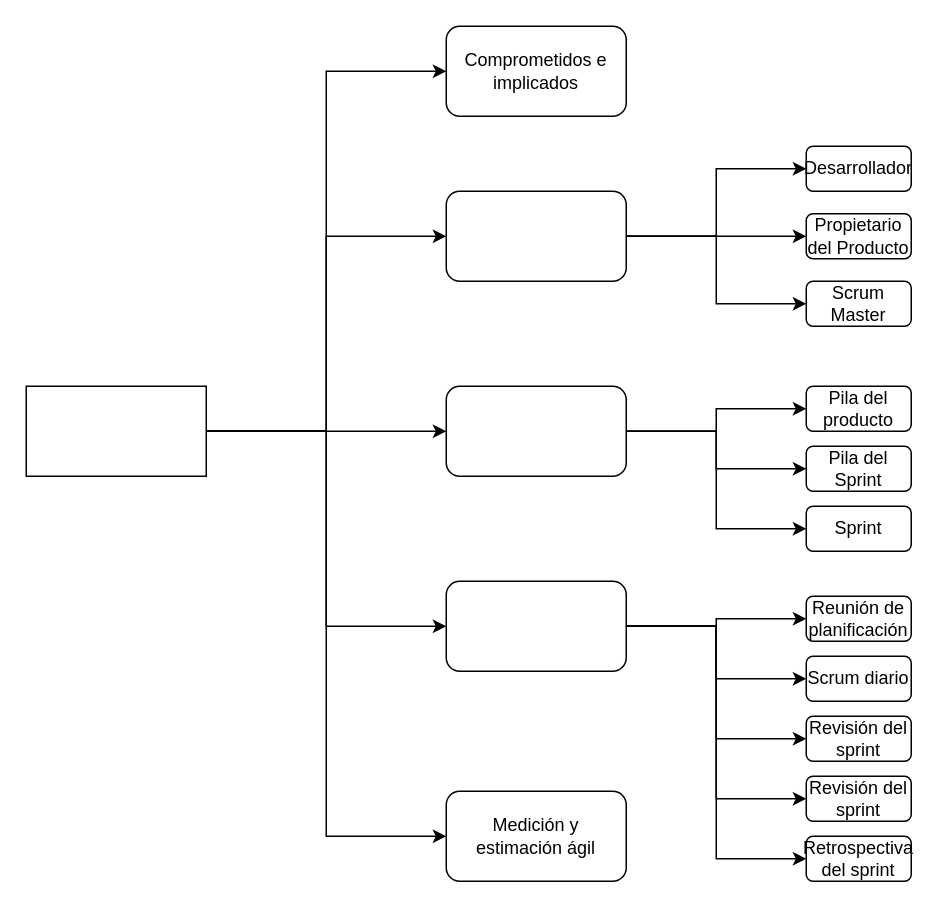
The diagram is 939 pixels wide and 908 high, and some of its shapes have lost their labels. The shapes that lost their labels are listed below. From the top down, each one's centre as x and y in pixels, then its label:
At point 535,235: "Roles".
At point 115,430: "EL CICLO SCRUM".
At point 535,430: "Artefactos".
At point 535,625: "Eventos".
